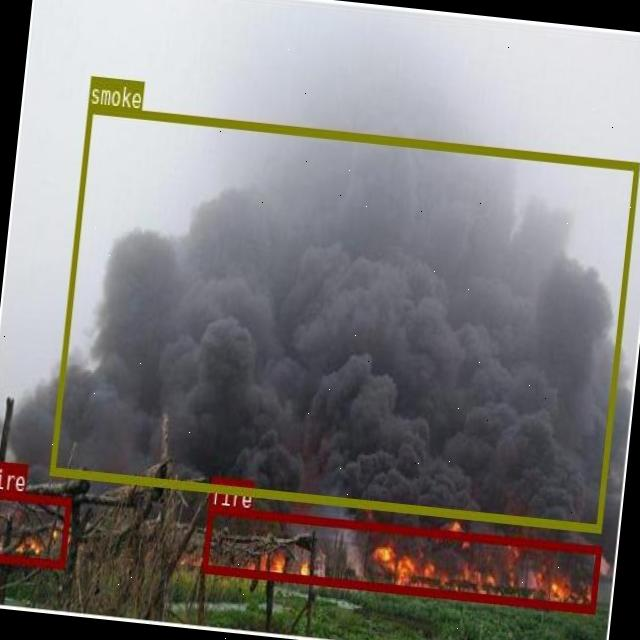fire: (201, 504, 600, 611), (0, 488, 70, 566)
smoke: (50, 104, 640, 530)
